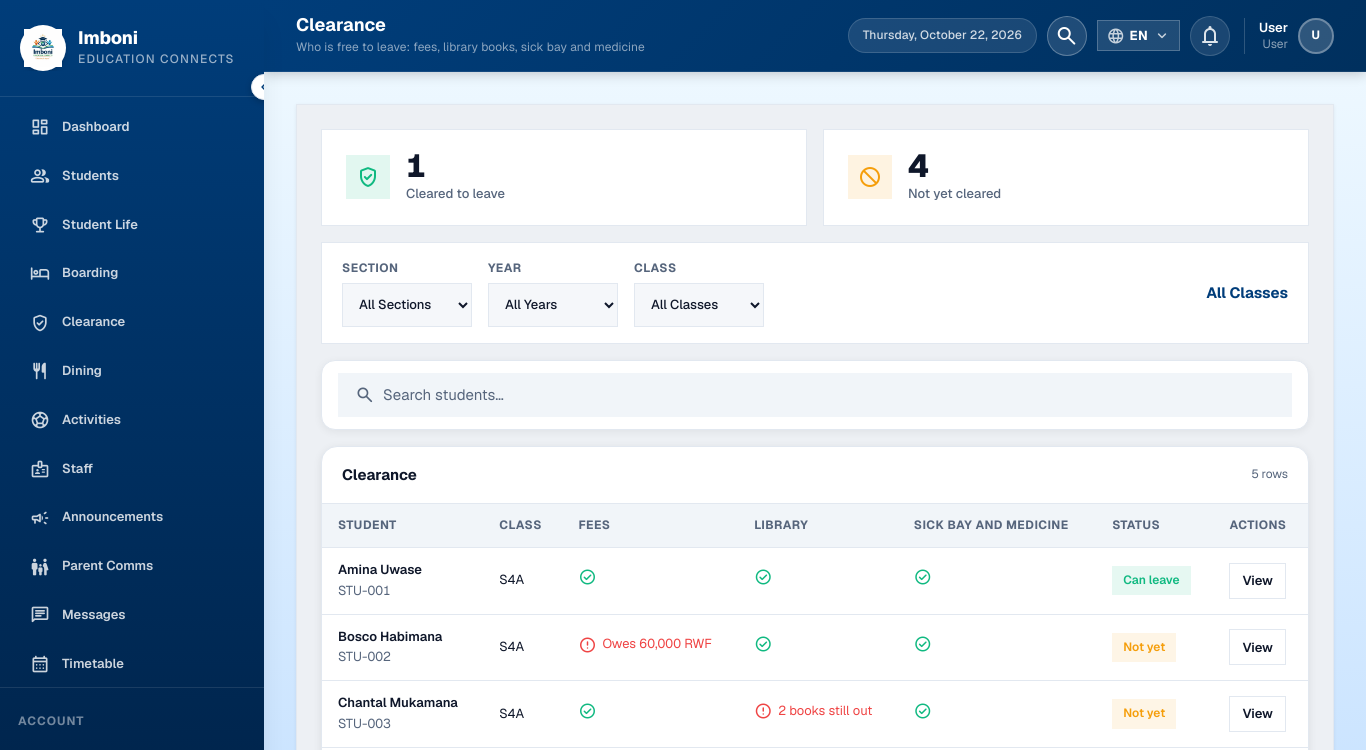
Test: DisClearance › opens a student's card with the books to bring back
Expected: the text "Amina Uwase" is shown, [338,561,422,578]
Click the button "View" in the row of "Chantal Mukamana": (1258, 714) [1230,696,1286,732]
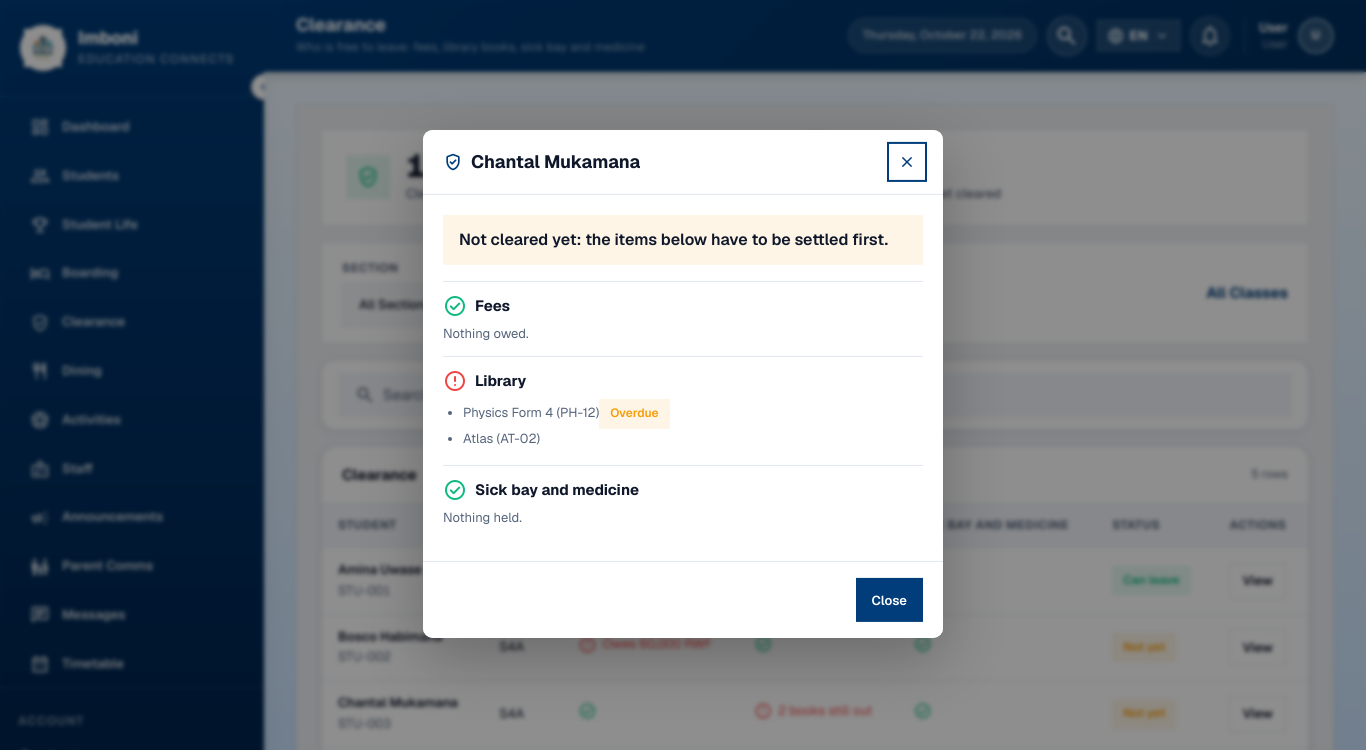
Result: the list item "Physics Form 4" is shown at [463,404,553,421]
Result: the text "(PH-12)" is shown at [556,404,599,421]
Result: the text "Overdue" is shown at [599,399,670,428]
